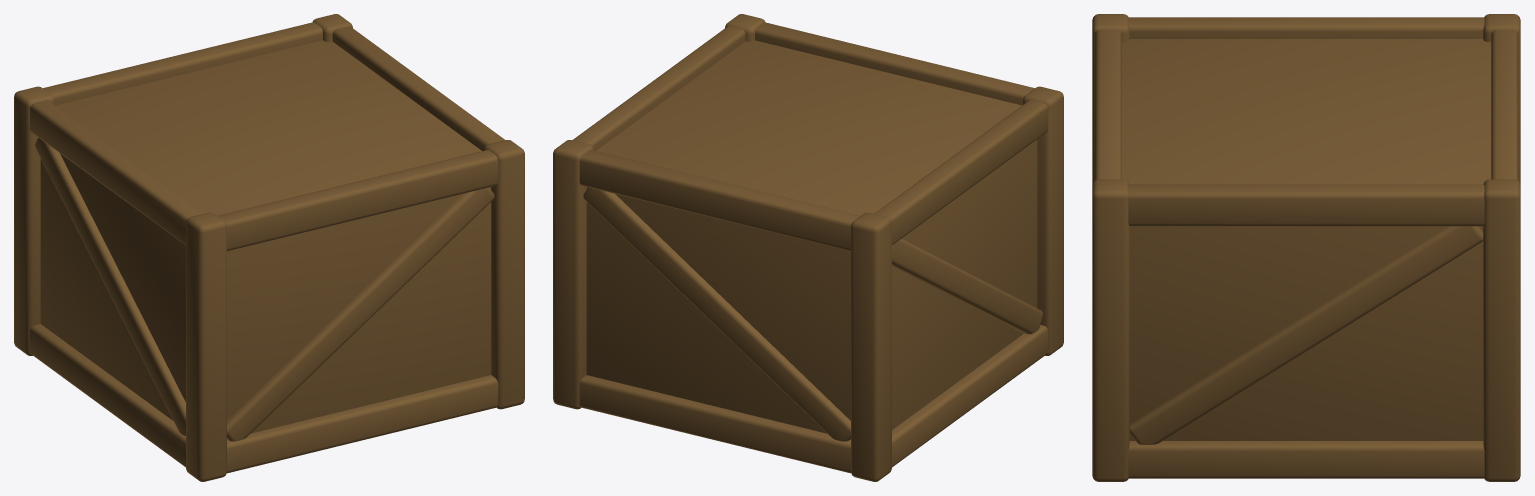
The model's file is Crate.fbx.
3 views of the same model, side by side, from view 1: azimuth 30°, elevation 25°; view 2: azimuth 150°, elevation 25°; view 3: azimuth 270°, elevation 25° (orthographic). The views are drawn at different scales.
Parts seen in each view (by area): view 1: Crate; view 2: Crate; view 3: Crate.
Boxes of the visible parts, <box> form: Crate: <box>14,14,524,481</box>; Crate: <box>553,14,1063,481</box>; Crate: <box>1092,14,1520,481</box>.
Size of the model in its own units: 8 by 6 by 8.
